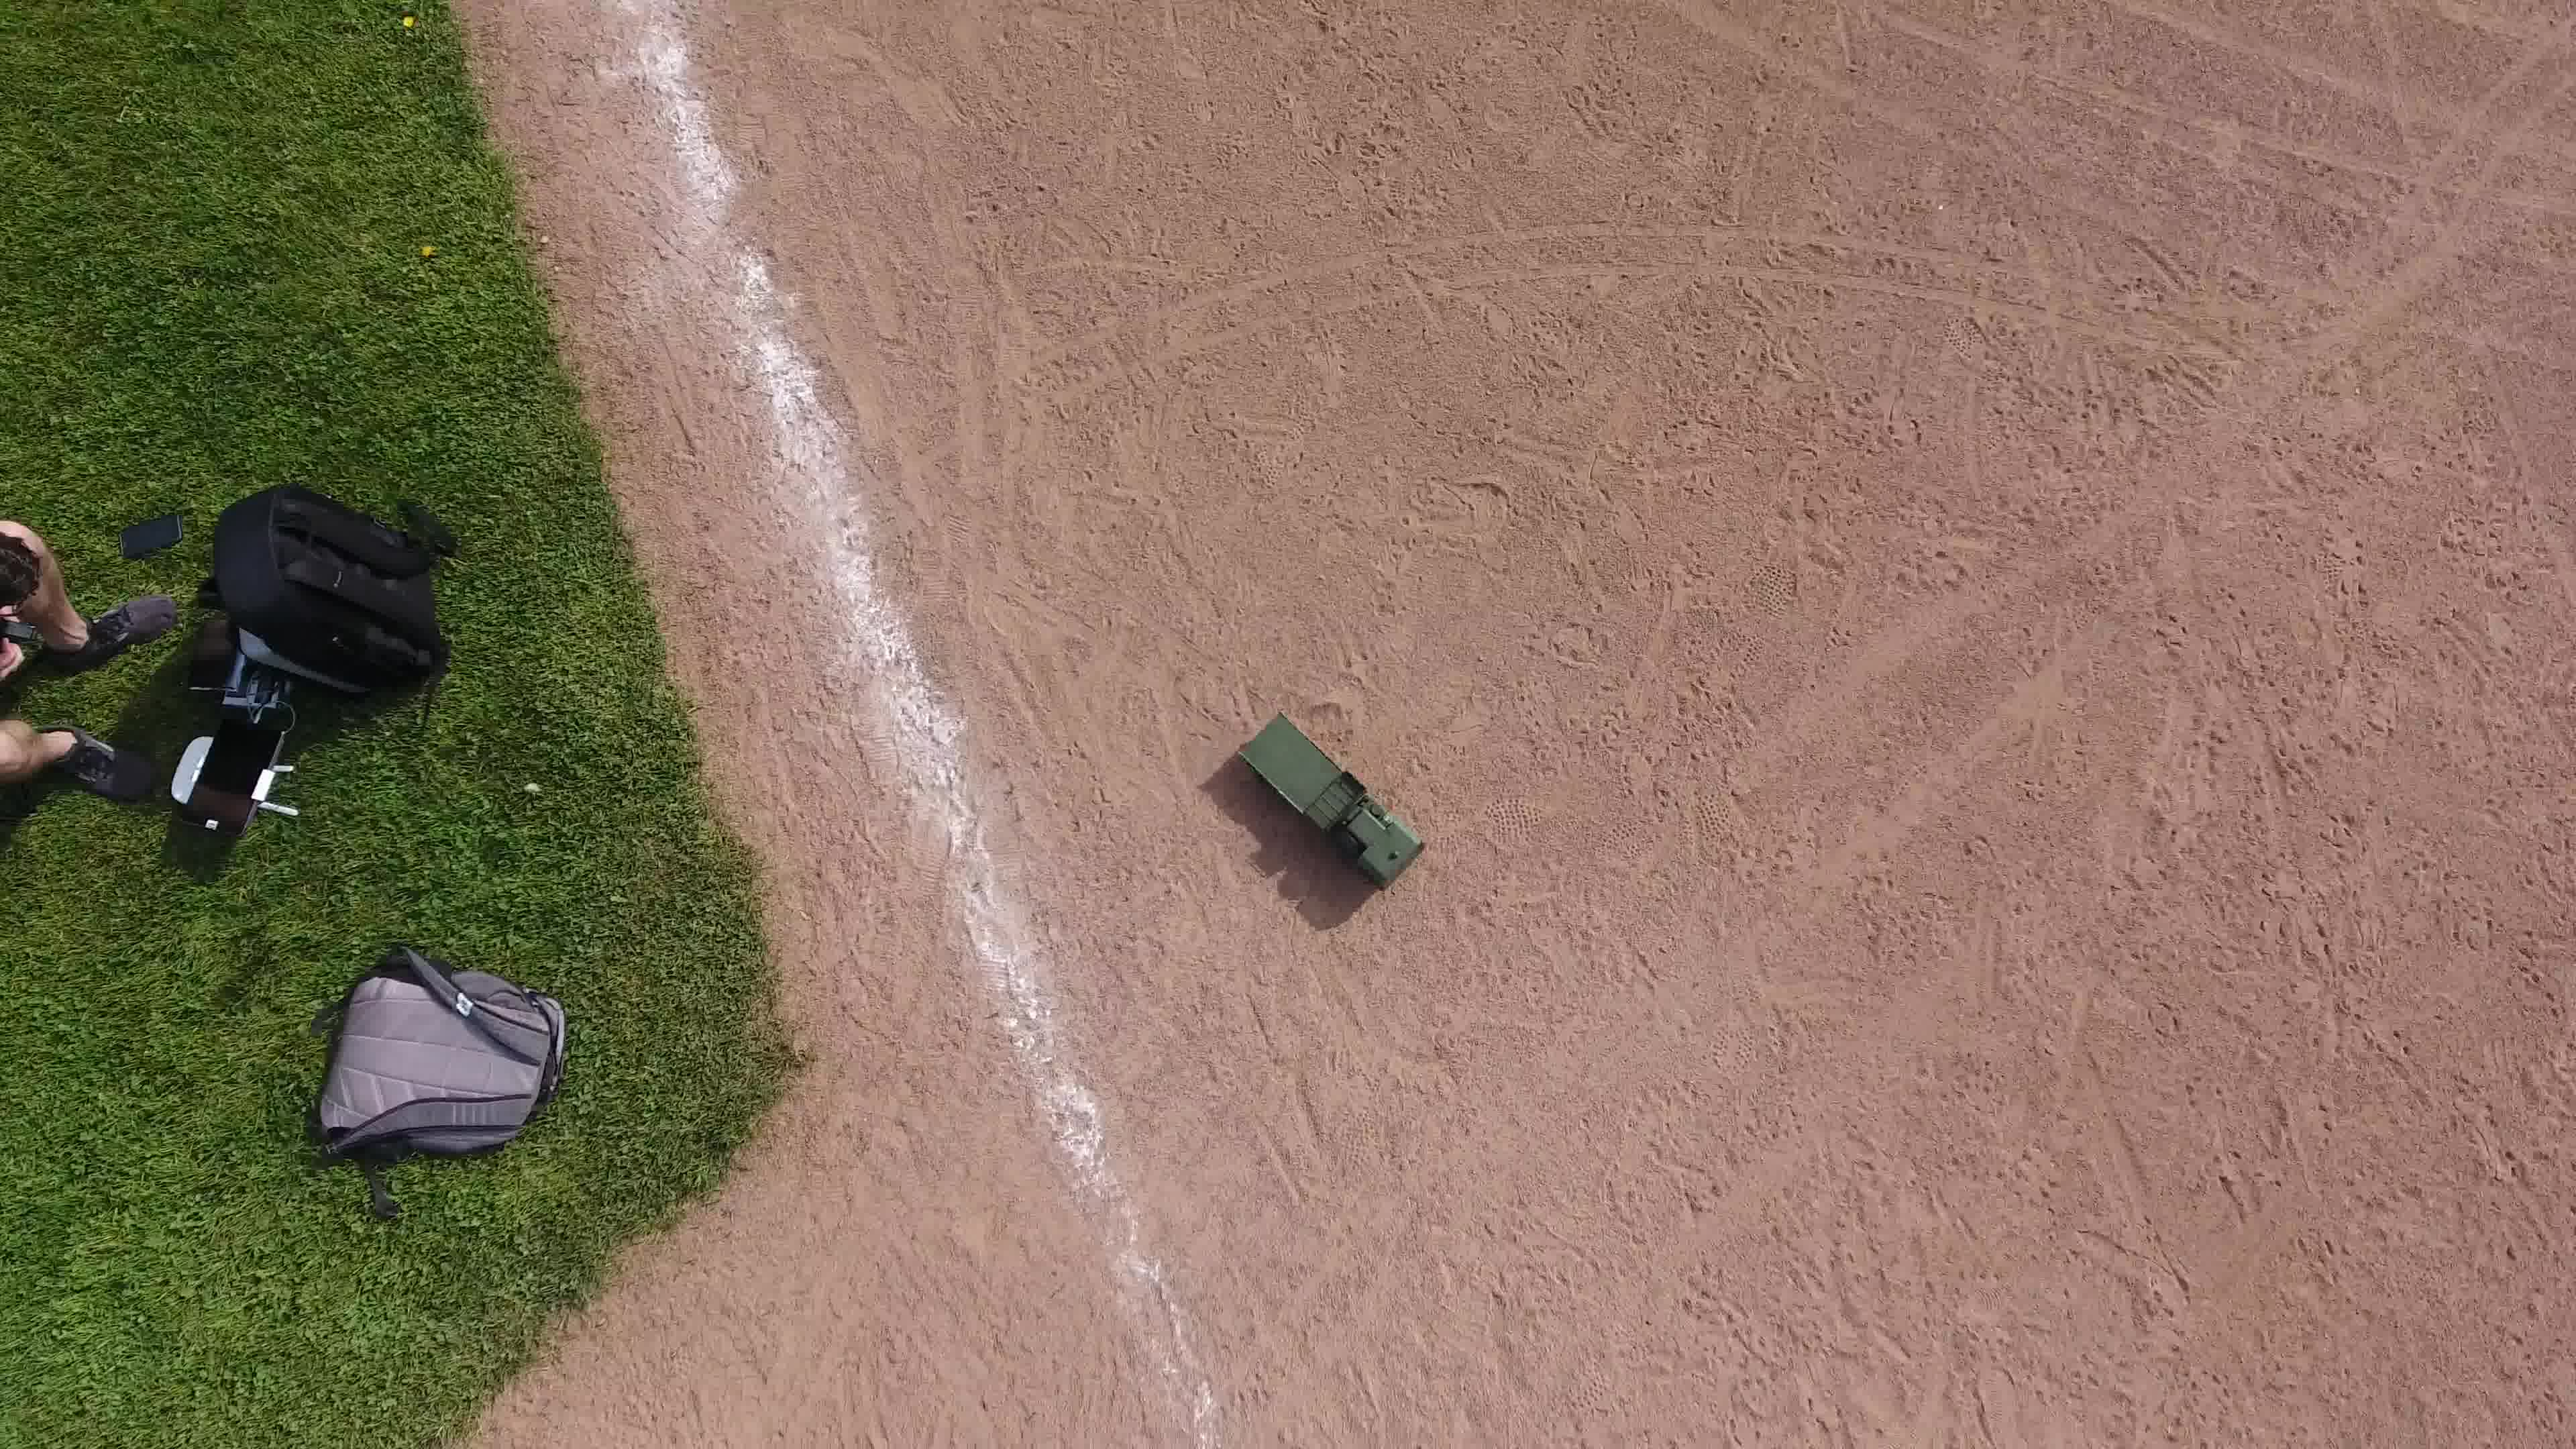transporter9: (1224, 706, 1431, 897)
